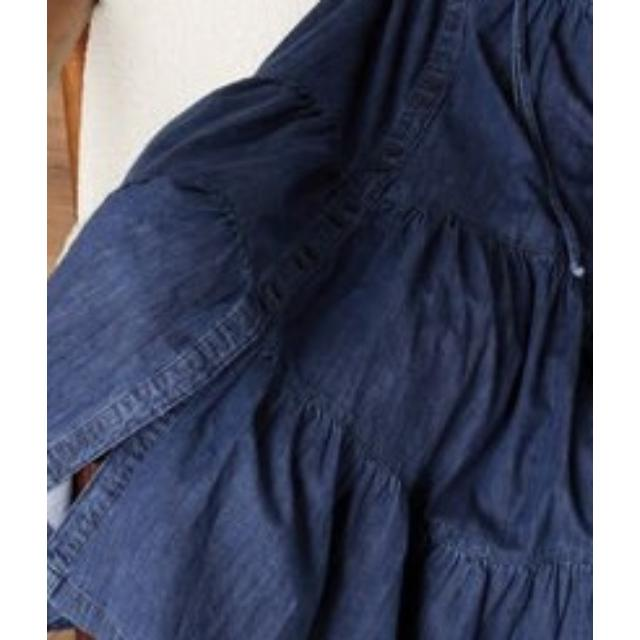denim: (172, 96, 594, 640)
